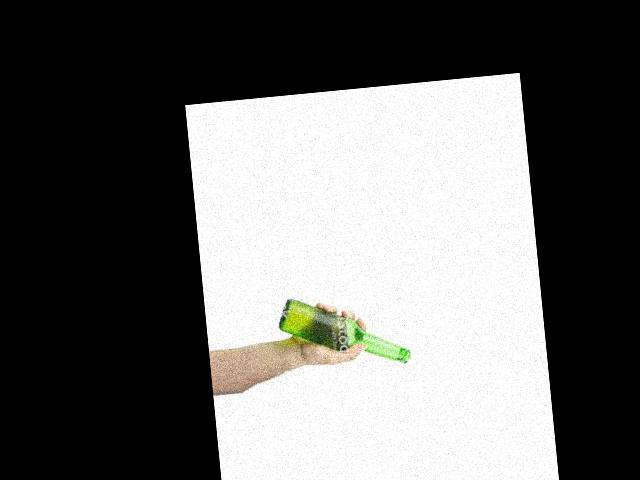beer: (277, 287, 412, 375)
